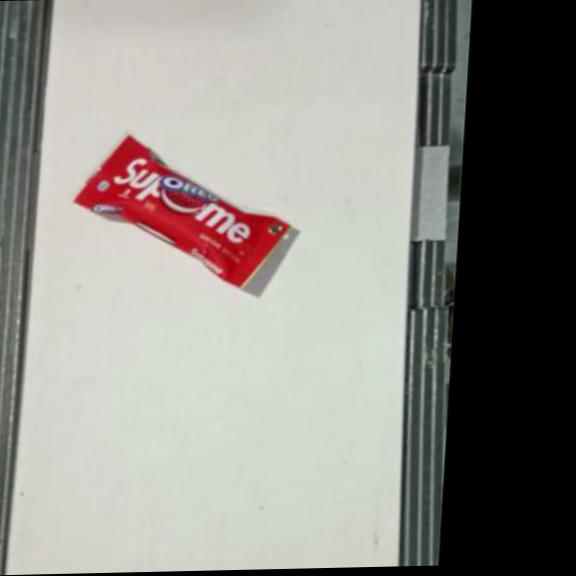Plastik: (69, 131, 296, 293)
